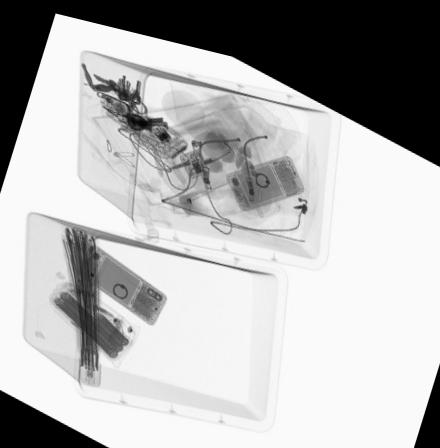Powerbank: (50, 276, 133, 356)
